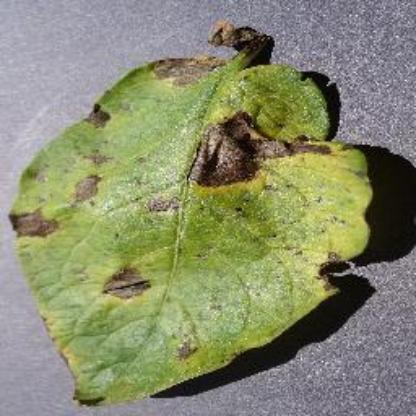Early-Blight: (10, 18, 384, 406)
